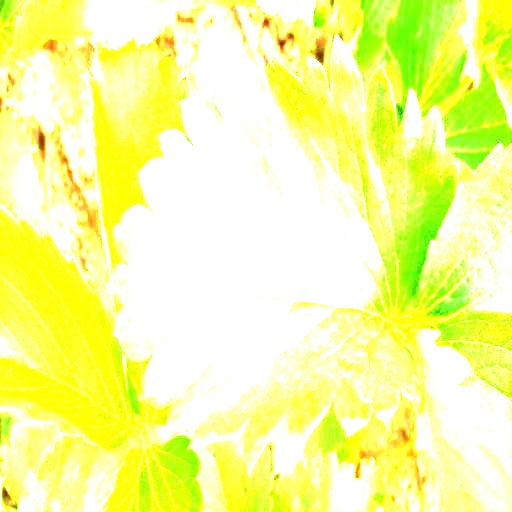Leaf Spot: (111, 32, 461, 477), (193, 431, 275, 511)
